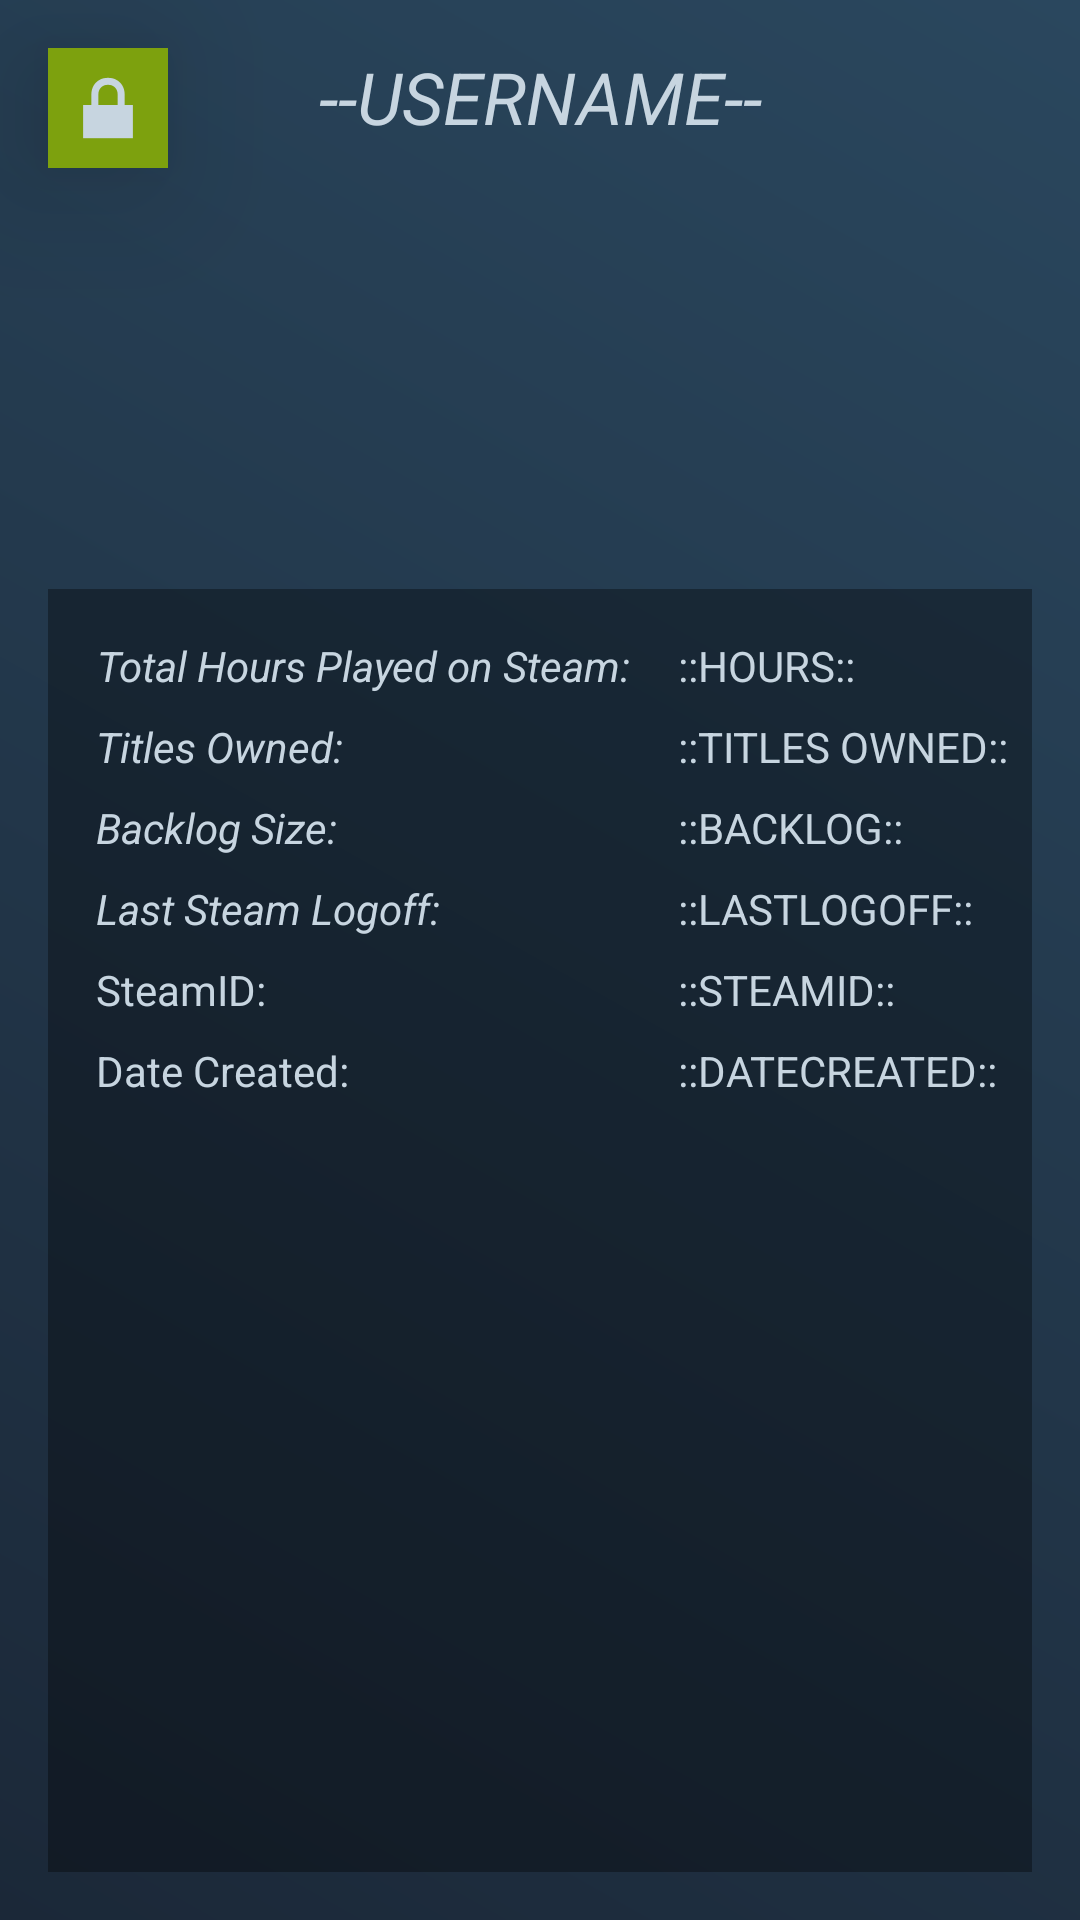

Named icons in this screenshot (1080w x 1920h) and their bounding boxes, [x1,y1,x2,y2]:
lock: [48,48,168,168]
